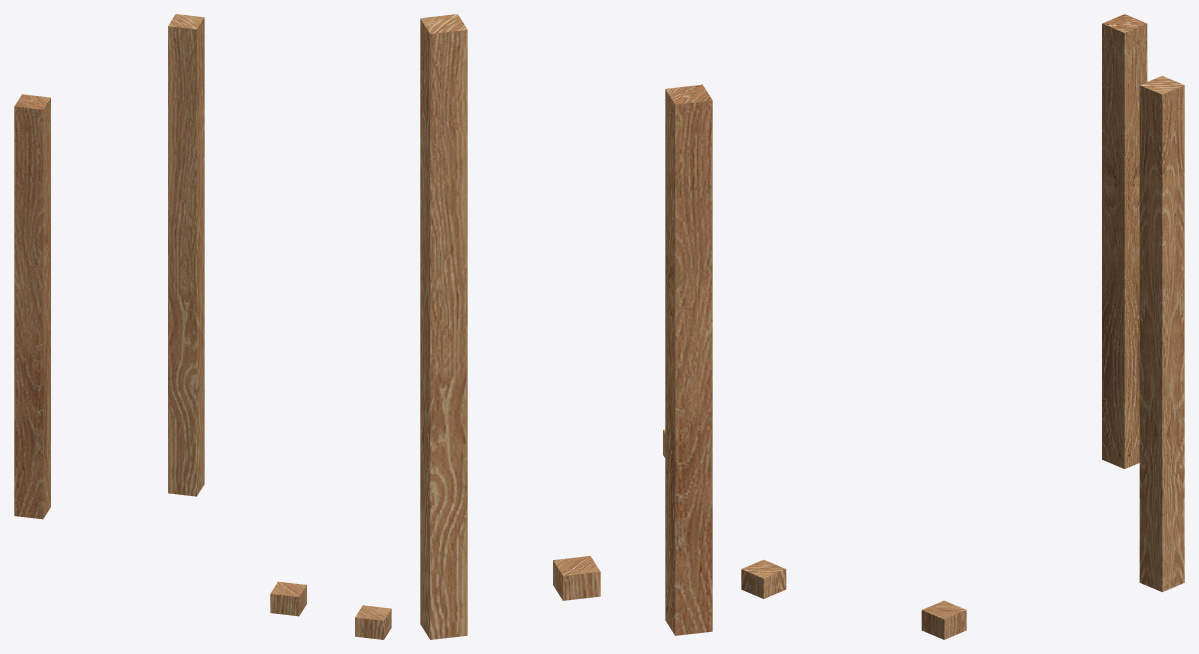
The model's file is 28654_deepcad-end2end.glb.
3 renders of one model, left to right at view 1: azimuth 30°, elevation 25°; view 2: azimuth 150°, elevation 25°; view 3: azimuth 270°, elevation 25°, orthographic. The views are drawn at different scales.
Visible parts, largest first — view 1: test_cmd_28654_pred; view 2: test_cmd_28654_pred; view 3: test_cmd_28654_pred.
Boxes of the visible parts, x1,y1,x2,y2 form: test_cmd_28654_pred: [14, 14, 391, 639]; test_cmd_28654_pred: [420, 14, 712, 639]; test_cmd_28654_pred: [741, 14, 1184, 639].
Bounding box in the file's own units: 0.425 × 1 × 0.7375.
Materials: 1 (1 with a texture image).
